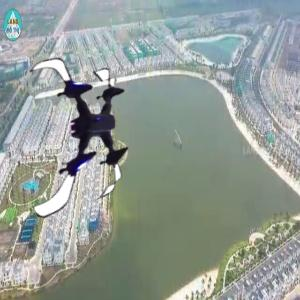drone: (1, 50, 157, 206)
